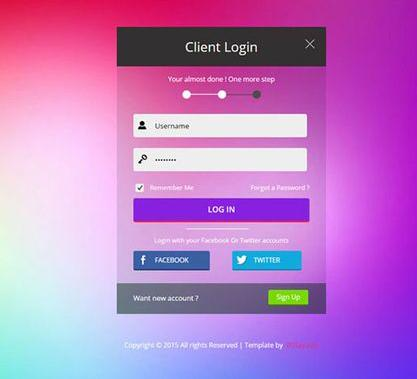button: (132, 197, 311, 225), (132, 249, 211, 273), (231, 249, 305, 272), (268, 289, 309, 307)
checkbox: (133, 182, 145, 194)
checkbox_with_label: (131, 181, 195, 194)
field: (131, 145, 309, 174), (131, 113, 309, 140)
